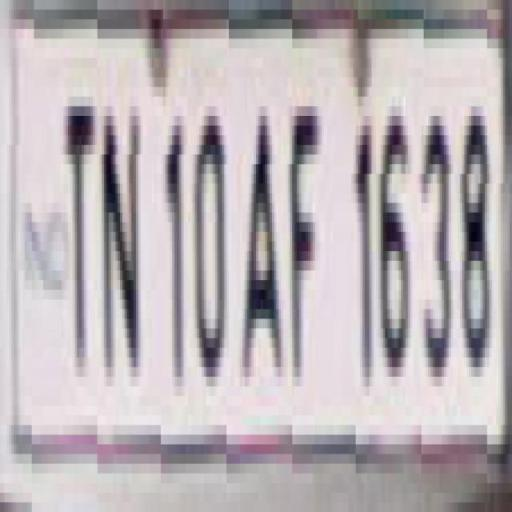number plate: (2, 0, 489, 502)
